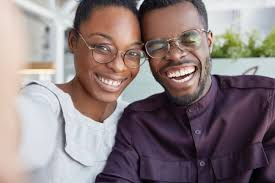Glasses: (77, 33, 145, 69), (145, 25, 204, 63)
